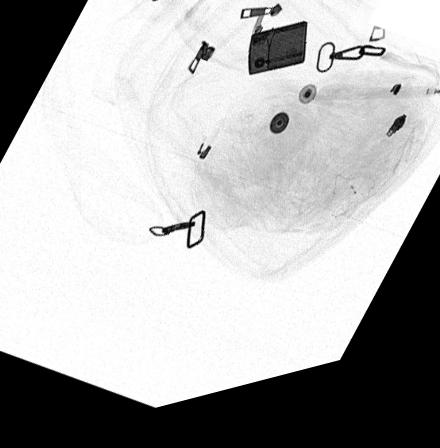Lighter: (247, 35, 307, 86)
